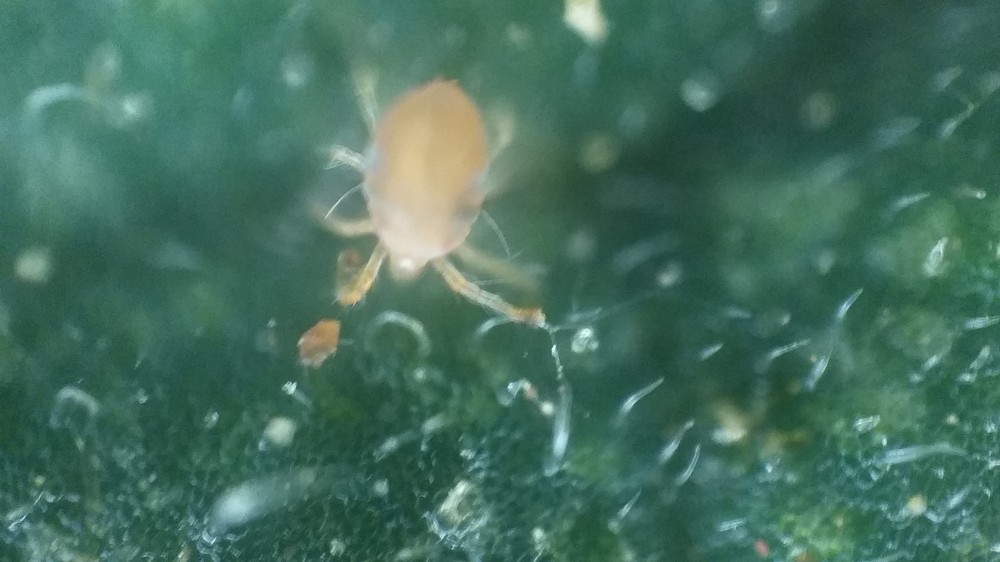Aracnido Rojo: (294, 53, 563, 352)
